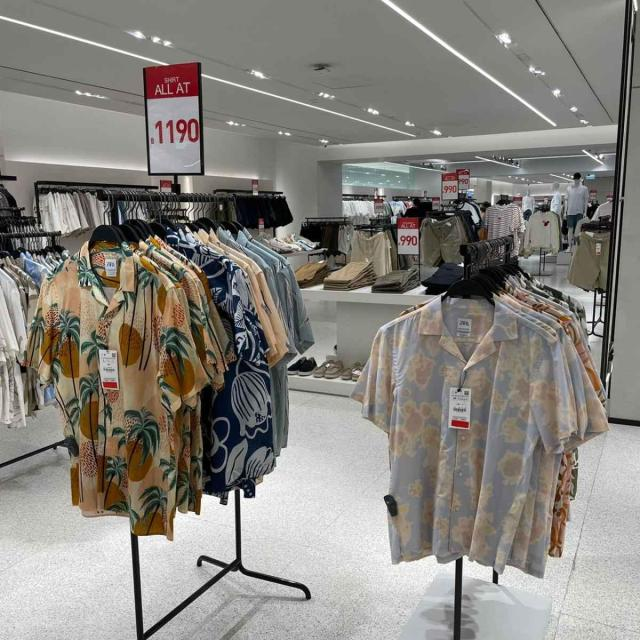shirt: (362, 300, 573, 562), (25, 264, 206, 524)
